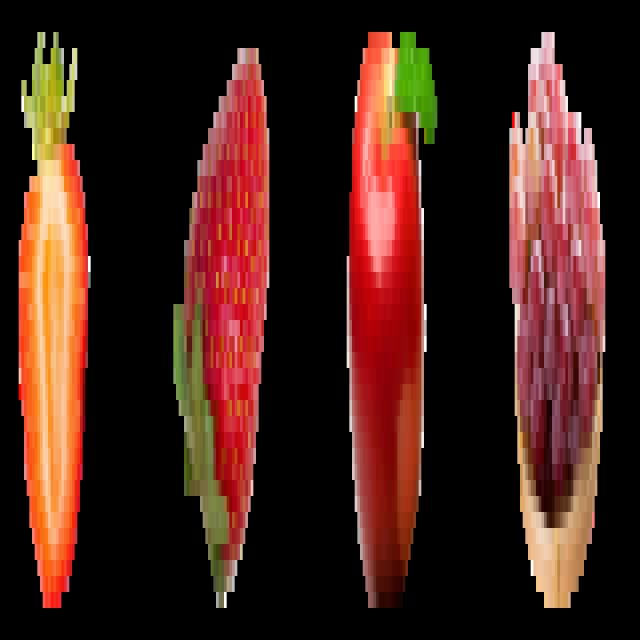apple: (346, 16, 440, 626)
grape: (506, 25, 608, 613)
strawberry: (174, 45, 272, 613), (14, 19, 93, 619)
